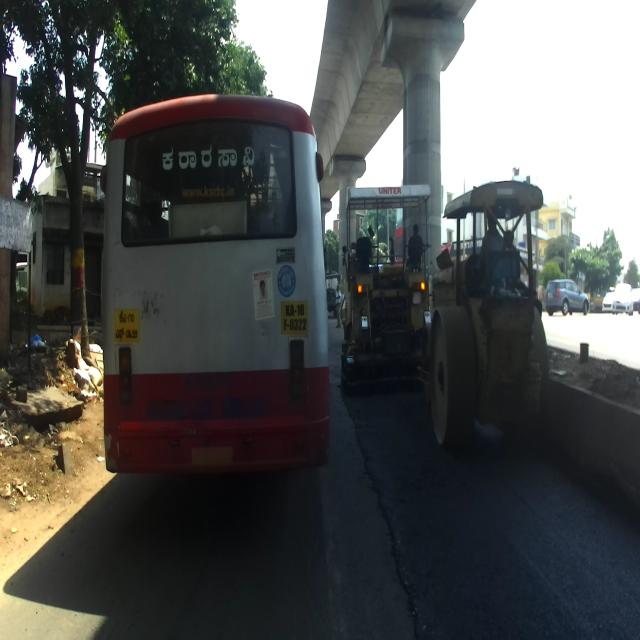bus ahead at: (98, 95, 333, 489)
tree ahead at: (49, 143, 100, 378)
truck ahead at: (434, 170, 552, 462), (344, 180, 431, 388)
